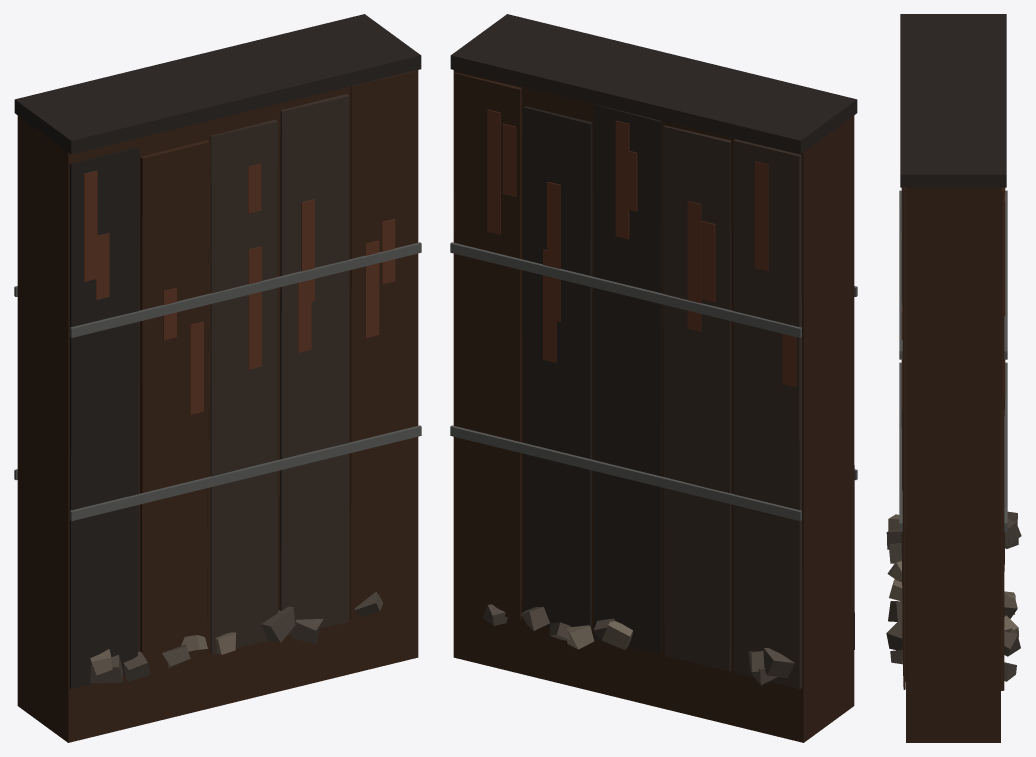
The model's file is fort_yard_wall.glb.
3 views of the same model, side by side, from view 1: azimuth 30°, elevation 25°; view 2: azimuth 150°, elevation 25°; view 3: azimuth 270°, elevation 25° (orthographic). The views are drawn at different scales.
Visible parts, largest first — view 1: fort_yard_wall; view 2: fort_yard_wall; view 3: fort_yard_wall.
Part boxes in pixels (box(x1,y1,x2,y2)): fort_yard_wall: box(14, 14, 421, 742); fort_yard_wall: box(450, 14, 857, 742); fort_yard_wall: box(886, 14, 1021, 742).
Size of the model in its own units: 8 by 13.2 by 2.85.
